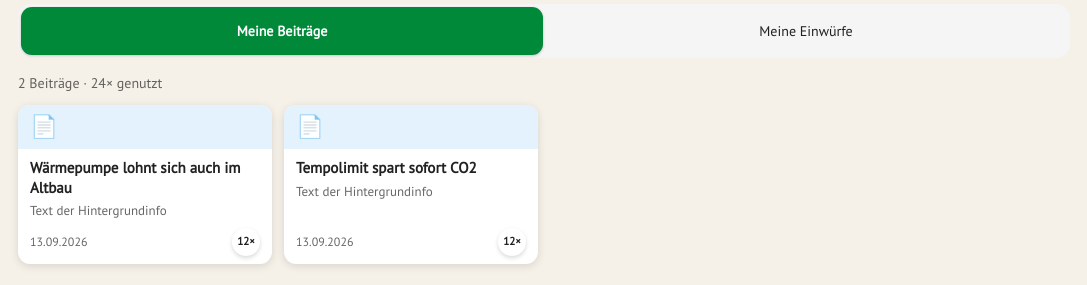
Test case: ContributionsViewComponent › laedt nach dem Löschen die Seite neu, ohne den gelöschten Beitrag
The image size is (1087, 285).
Click the link with aria-label "Hintergrundinfo: Wärmepumpe lohnt sich auch im Altbau".
click(145, 185)  # box [18, 105, 272, 264]
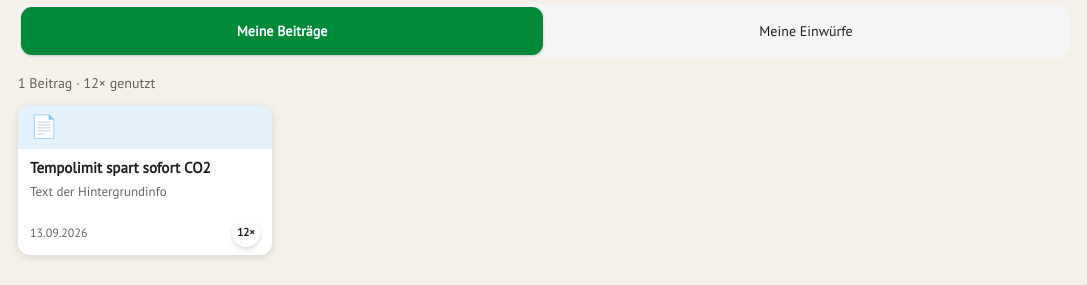
Expected: the text with class "album-statistik" shows "1 Beitrag", [18, 75, 155, 92]
